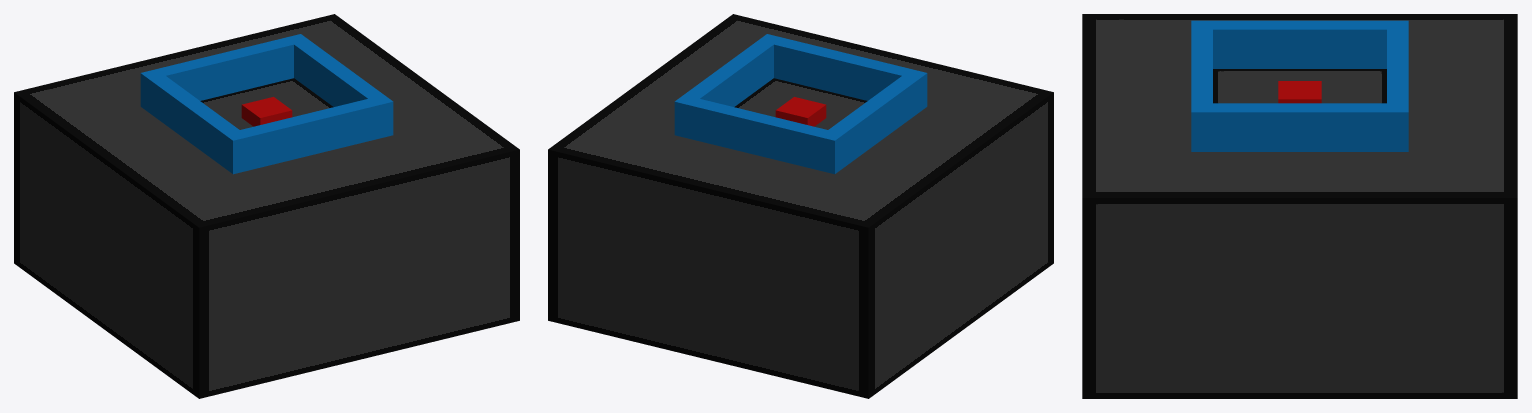
File: laser-catcher.obj
3 views of the same model, side by side, from view 1: azimuth 30°, elevation 25°; view 2: azimuth 150°, elevation 25°; view 3: azimuth 270°, elevation 25° (orthographic). The views are drawn at different scales.
Parts seen in each view (by area): view 1: Cube; view 2: Cube; view 3: Cube.
Boxes of the visible parts, x1=… form: Cube: x1=14, y1=14, x2=519, y2=398; Cube: x1=548, y1=14, x2=1053, y2=398; Cube: x1=1082, y1=14, x2=1517, y2=398.
Bounding box in the file's own units: 1 × 0.61 × 1.
